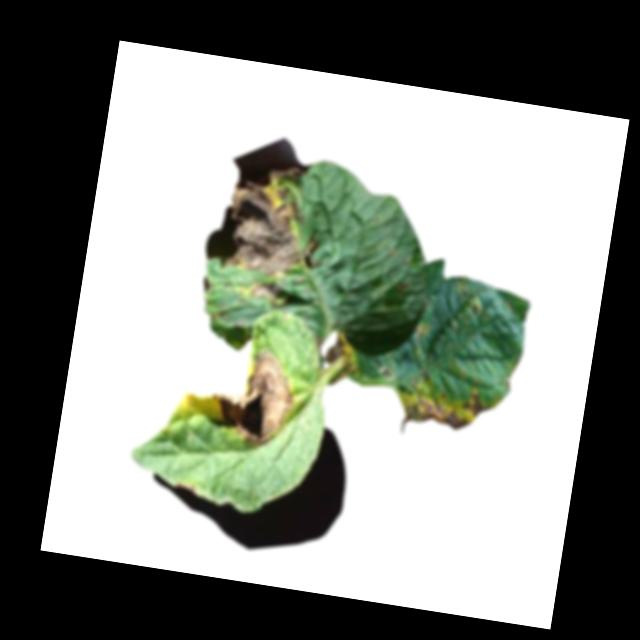Early_blight: (215, 154, 332, 279), (204, 341, 301, 450), (388, 377, 494, 433), (320, 328, 358, 383), (246, 279, 280, 300)
